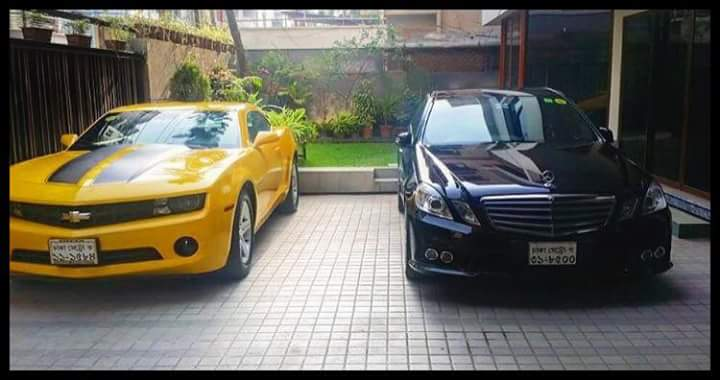registration_plate: (47, 239, 97, 265), (527, 241, 576, 266)
